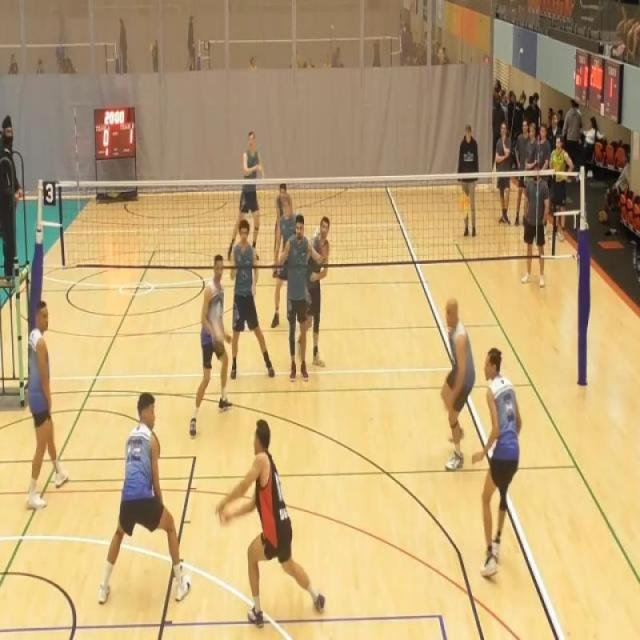volleyball: (210, 311, 226, 350)
